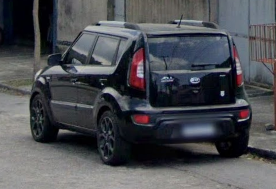car: (27, 20, 253, 166)
